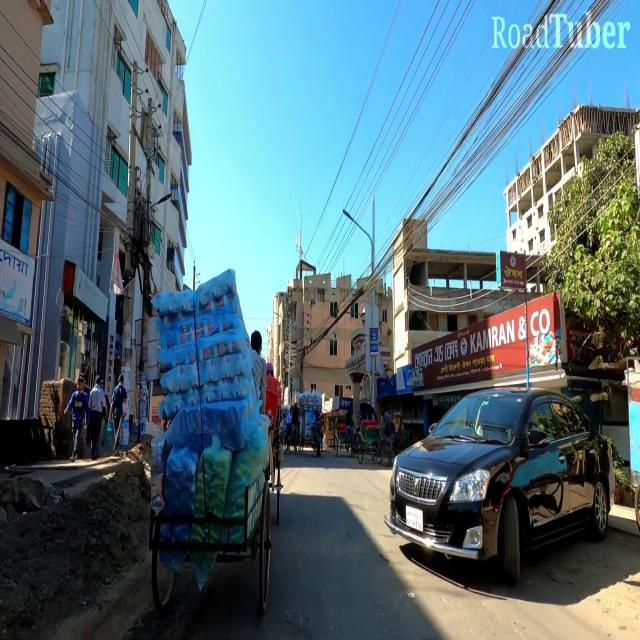black: (388, 378, 620, 578)
